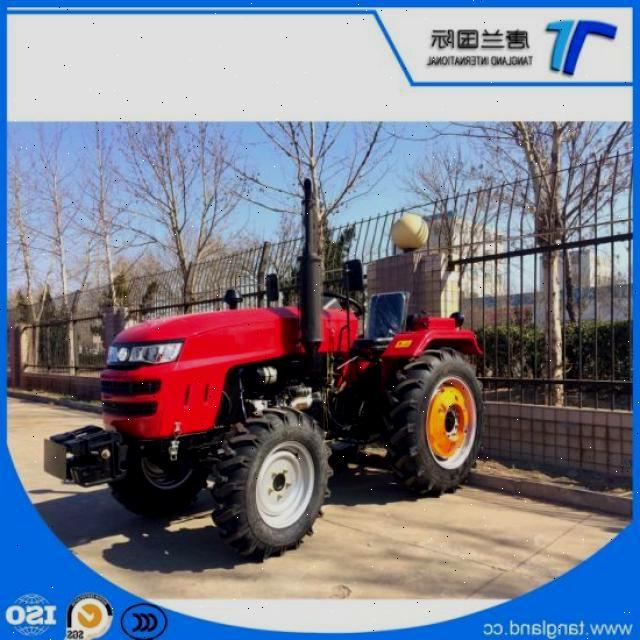Tratores - v5 YOLO V8L 2024-11-13: (64, 165, 502, 562)
